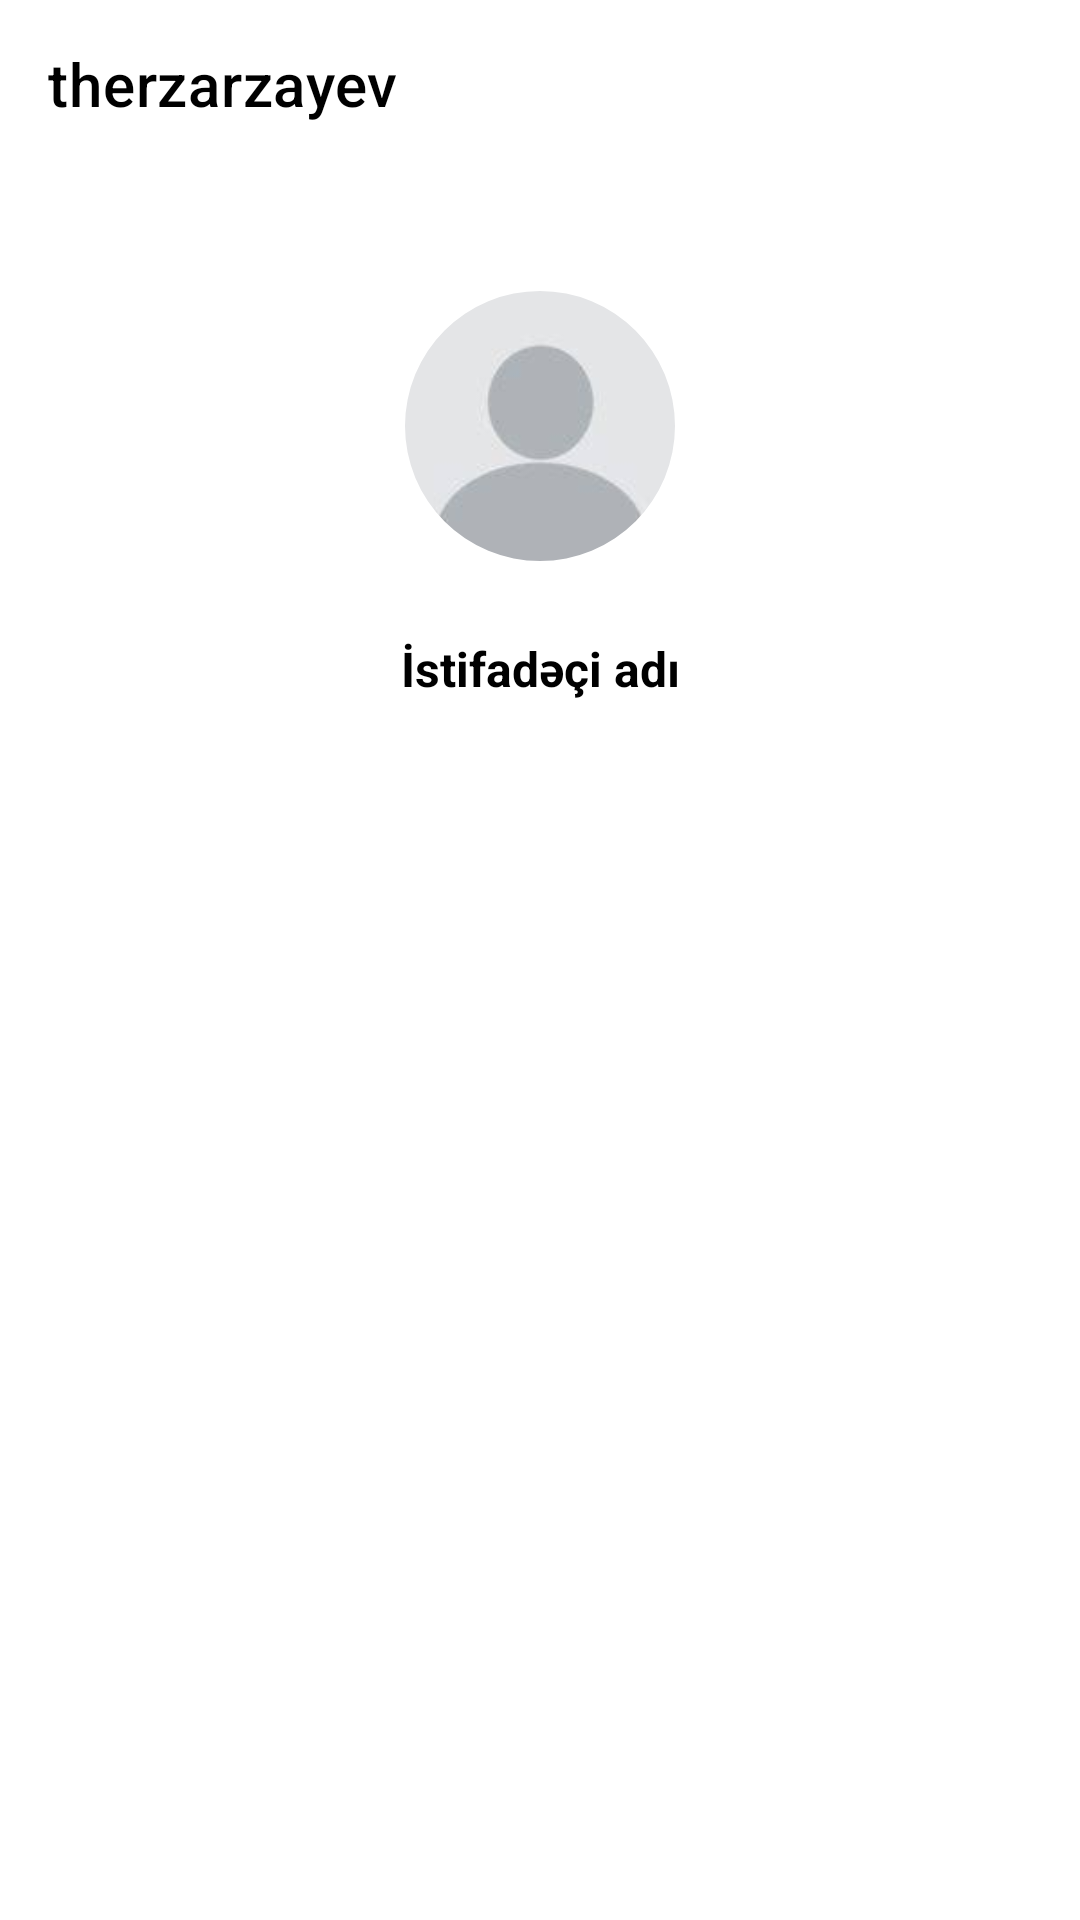

Icon bounding boxes for this 1080w x 1920h phone screenshot, format (x1, y1, x2, y2):
İstifadəçi şəkli: (405, 291, 675, 561)
